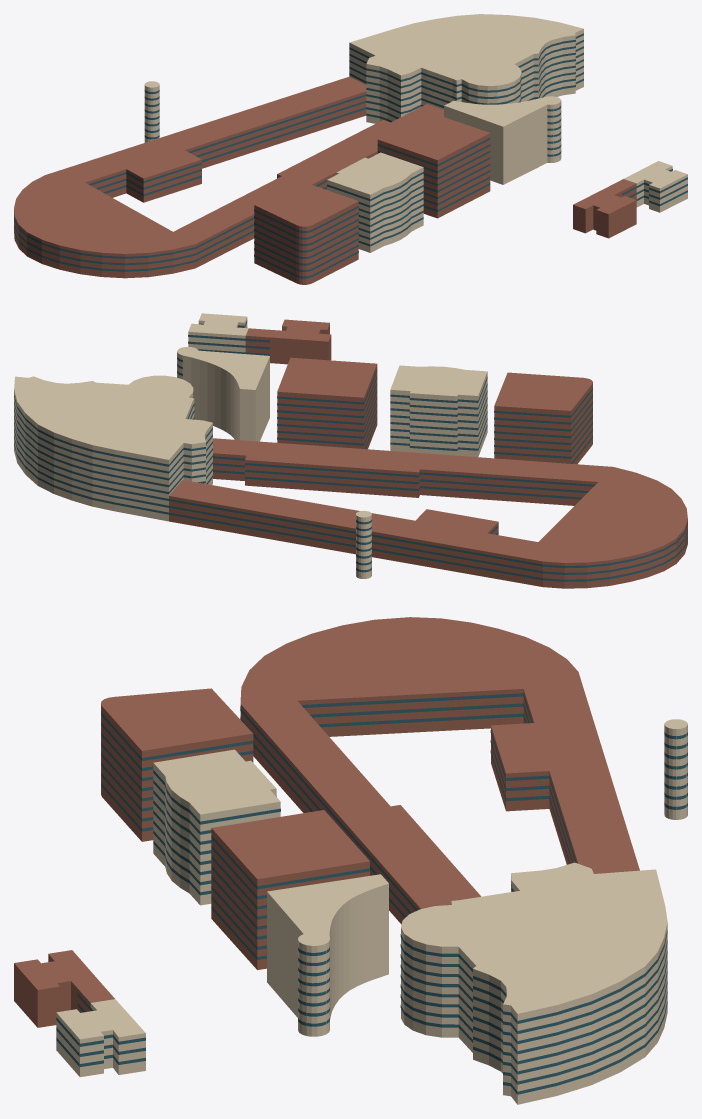
The model's file is city_9_-4.glb.
The picture shows the model from 3 angles, top to bottom: view 1: azimuth 30°, elevation 25°; view 2: azimuth 150°, elevation 25°; view 3: azimuth 270°, elevation 25°; orthographic projection. The views are drawn at different scales.
Visible parts, largest first — view 1: city_9_-4; view 2: city_9_-4; view 3: city_9_-4.
Part boxes in pixels (<box>): city_9_-4: <box>14,14,687,284</box>; city_9_-4: <box>14,313,687,588</box>; city_9_-4: <box>14,617,687,1104</box>.
Size of the model in its own units: 382 by 36 by 242.
